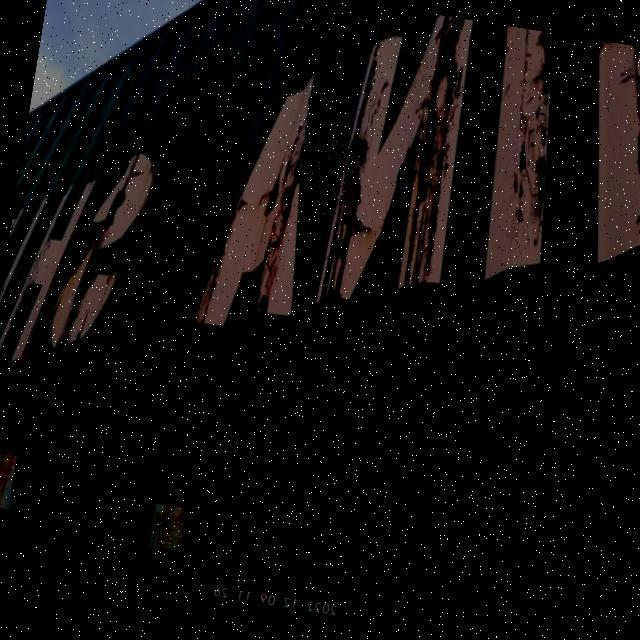rust: (306, 136, 364, 220), (151, 505, 188, 552), (1, 452, 19, 510)
